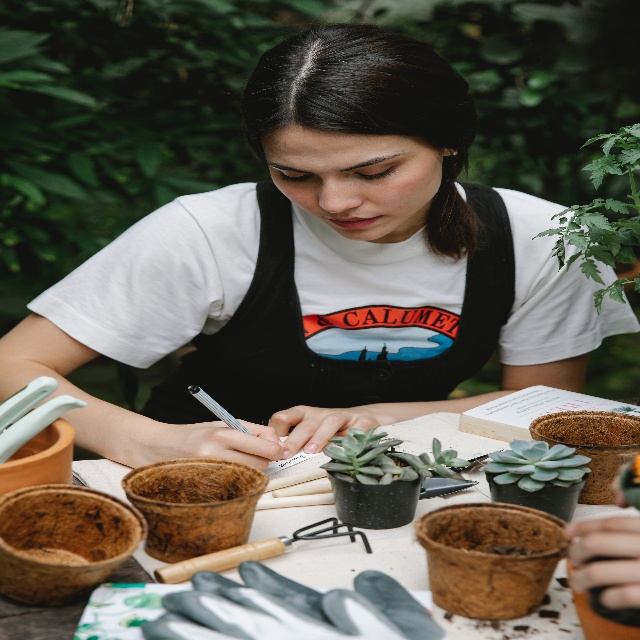Guantes: (192, 557, 445, 640), (139, 587, 412, 640)
Sin_guantes: (134, 418, 290, 472), (563, 514, 640, 607), (268, 404, 380, 454)
